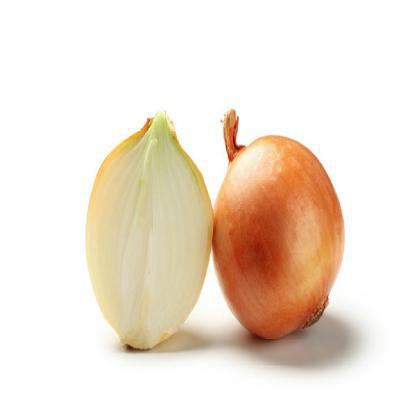onion: (216, 110, 346, 350), (94, 109, 212, 362)
